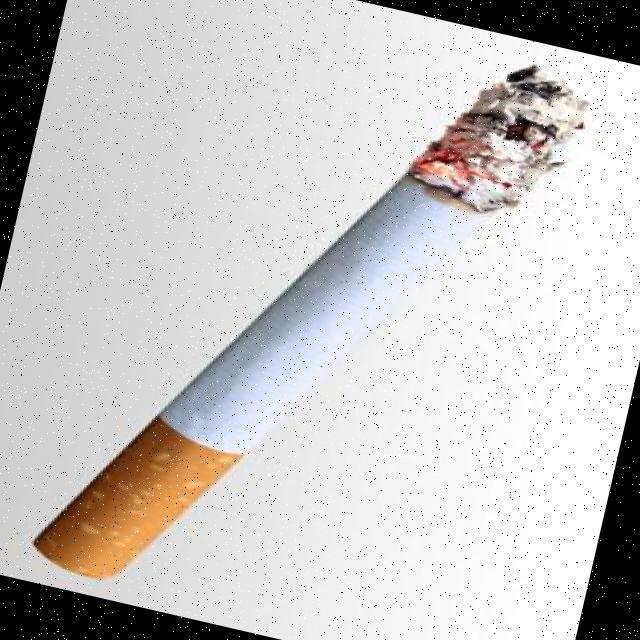cigarette: (7, 0, 608, 640)
